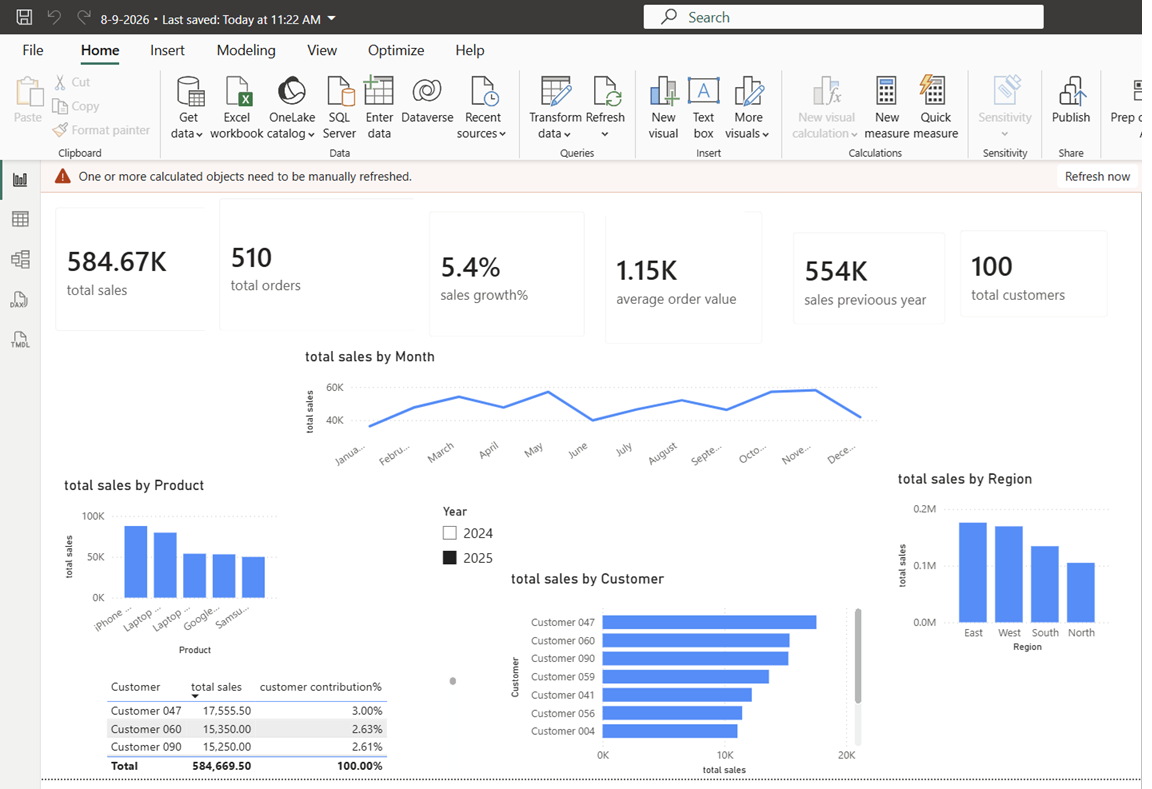

The page's visual inventory and layout, read from the dashboard file:
{"tool":"powerbi","page":{"name":"Page 1","canvas":[1280,720],"ordinal":0},"visuals":[{"type":"cardVisual","fields":{"Data":["Customers.total sales"]},"box":[0,38.5,280.4,178.4],"z":0},{"type":"cardVisual","fields":{"Data":["Customers.total orders"]},"box":[191,28.2,279.6,188.3],"z":1000},{"type":"cardVisual","fields":{"Data":["Customers.total customers"]},"box":[1052.6,65.4,206.4,135.9],"z":2000},{"type":"cardVisual","fields":{"Data":["Customers.average order value"]},"box":[639.7,43.6,217.9,188.5],"z":3000},{"type":"clusteredColumnChart","fields":{"Category":["Customers.Region"],"Y":["Customers.total sales"]},"box":[992.2,360.2,257.3,217.5],"z":4000},{"type":"slicer","fields":{"Values":["Dates.Year"]},"box":[454.5,394.8,279.7,107.6],"z":5000},{"type":"lineChart","fields":{"Y":["Customers.total sales"],"Category":["Dates.Year Month.Variation.Date Hierarchy.Month"]},"box":[301.9,218.4,676.7,150.5],"z":6000},{"type":"clusteredColumnChart","fields":{"Category":["Products.Product"],"Y":["Customers.total sales"]},"box":[22.3,368.9,258.3,212.6],"z":7000},{"type":"textbox","box":[433.7,0,384.7,65.3],"z":8000},{"type":"clusteredBarChart","fields":{"Category":["Customers.Customer"],"Y":["Customers.total sales"]},"box":[542.3,476.9,418.2,244.2],"z":9000},{"type":"tableEx","fields":{"Values":["Customers.Customer","Customers.total sales","Customers.customer contribution%"]},"box":[71.4,596.1,418.2,123.4],"z":10000},{"type":"cardVisual","fields":{"Data":["Customers.sales previoous year"]},"box":[857.7,67.9,211.5,141],"z":11000},{"type":"cardVisual","fields":{"Data":["Customers.sales growth%"]},"box":[434.6,43.6,215.4,180.8],"z":12000}]}

Visuals, with their boxes on the page's 1280x720 design canvas (x1, y1, x2, y2). These are canvas units, not pixel positions in the 1152x789 screenshot, which may show the page scaled, cropped or inside an application window:
cardVisual - Customers.total sales: crop(0, 38, 280, 217)
cardVisual - Customers.total orders: crop(191, 28, 471, 216)
cardVisual - Customers.total customers: crop(1053, 65, 1259, 201)
cardVisual - Customers.average order value: crop(640, 44, 858, 232)
clusteredColumnChart - Customers.Region x Customers.total sales: crop(992, 360, 1250, 578)
slicer - Dates.Year: crop(454, 395, 734, 502)
lineChart - Customers.total sales x Dates.Year Month.Variation.Date Hierarchy.Month: crop(302, 218, 979, 369)
clusteredColumnChart - Products.Product x Customers.total sales: crop(22, 369, 281, 582)
textbox: crop(434, 0, 818, 65)
clusteredBarChart - Customers.Customer x Customers.total sales: crop(542, 477, 960, 721)
tableEx - Customers.Customer x Customers.total sales: crop(71, 596, 490, 720)
cardVisual - Customers.sales previoous year: crop(858, 68, 1069, 209)
cardVisual - Customers.sales growth%: crop(435, 44, 650, 224)
